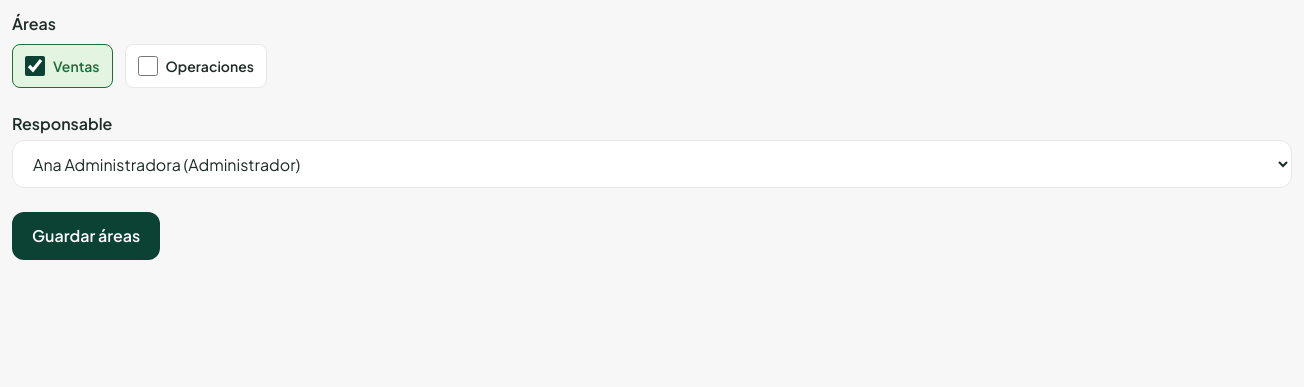
Test: ChangeAreasForm (spec 003, R3 a R5; plan 003, 6.2) › errores de la API, sin perder lo elegido › 400 ownerId: el error va junto al responsable
Expected: the element "Áreas" is shown, [12, 13, 267, 88]
Expected: the dropdown labelled "Responsable" is enabled, [12, 140, 1292, 188]
What coordinates should you click on to do the following:
click the checkbox labelled "Ventas"
I would click on:
 (35, 66)
Its box is [25, 56, 45, 76].
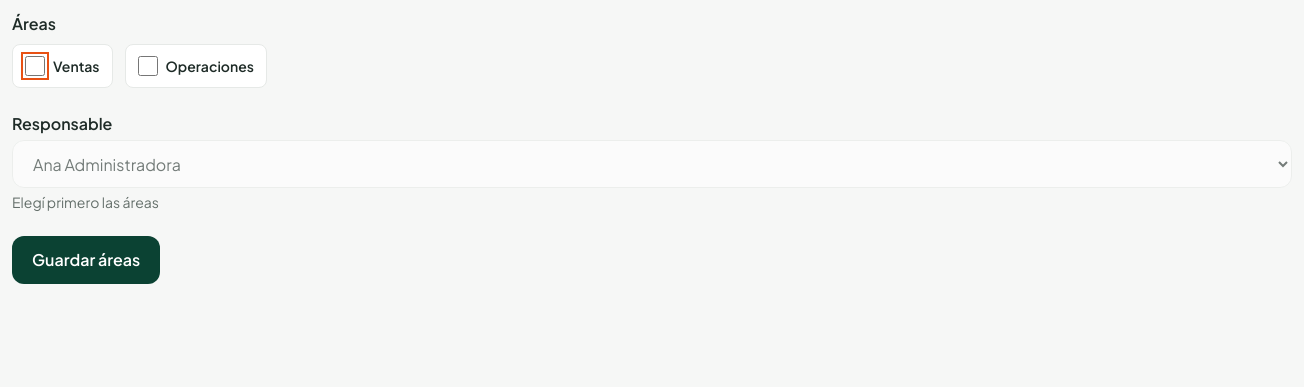
What coordinates should you click on to do the following:
click the checkbox labelled "Operaciones"
I would click on:
 (148, 66)
Its box is [138, 56, 158, 76].
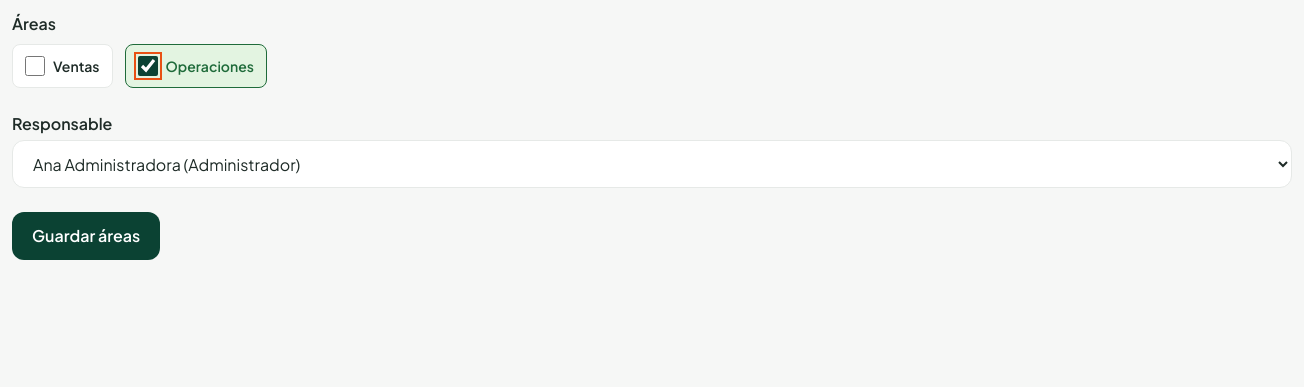
What coordinates should you click on to do the following:
click the button "Guardar áreas"
I would click on:
 (86, 236)
Its box is [12, 212, 160, 260].
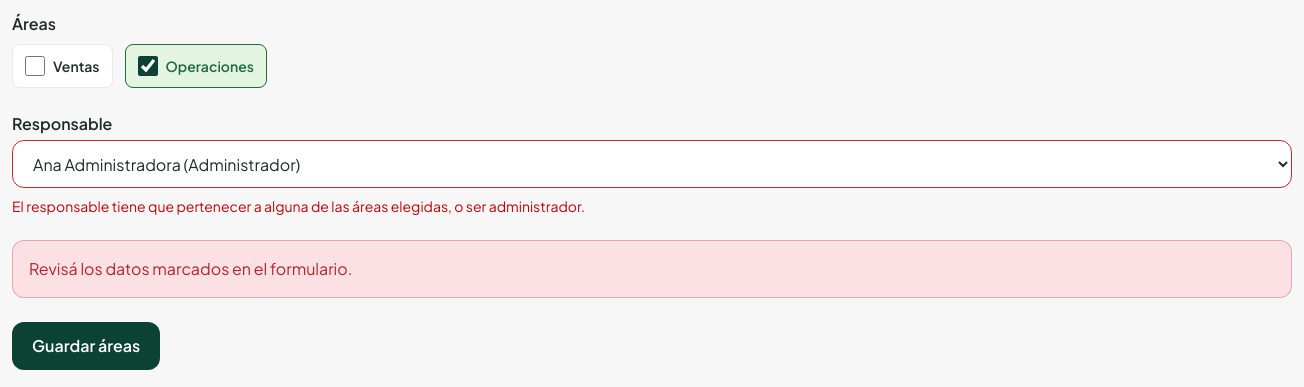
Expected: the text "El responsable tiene que pertenecer a alguna de las áreas elegidas, o ser administrador." is shown, [12, 197, 585, 215]
